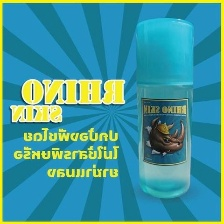insecticide: (129, 16, 200, 203)
